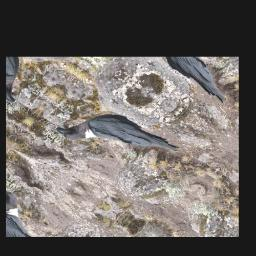Crow: (53, 91, 183, 187)
